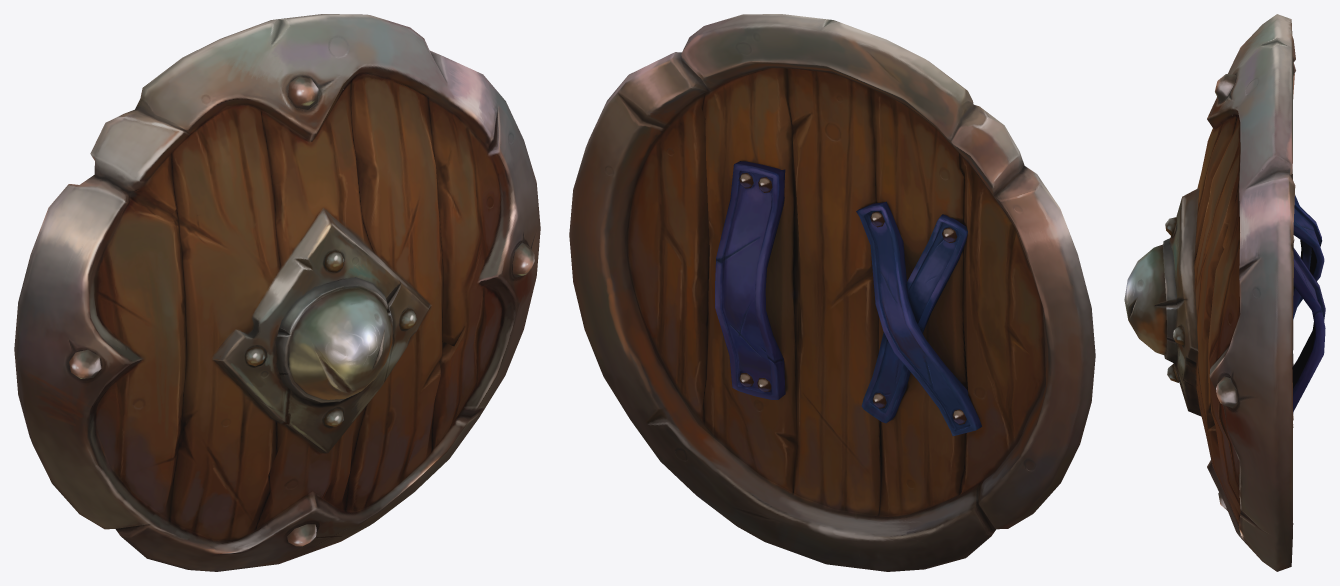
3 renders of one model, left to right at view 1: azimuth 30°, elevation 25°; view 2: azimuth 150°, elevation 25°; view 3: azimuth 270°, elevation 25°, orthographic. The views are drawn at different scales.
Visible parts, largest first — view 1: Sphere002; view 2: Sphere002; view 3: Sphere002.
Boxes of the visible parts, left/top/right/bottom form: Sphere002: left=14, top=14, right=540, bottom=571; Sphere002: left=569, top=14, right=1095, bottom=571; Sphere002: left=1124, top=14, right=1325, bottom=571.
Size of the model in its own units: 96.42 by 95.68 by 34.48.
Materials: 1 (1 with a texture image).
